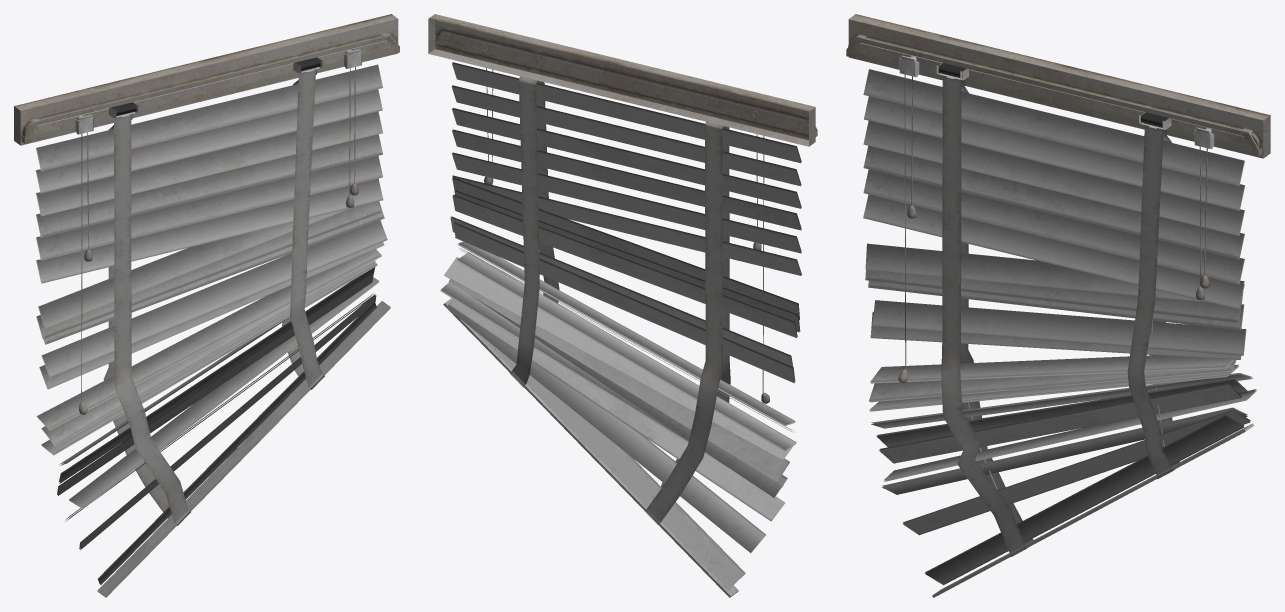
File: 038_OfficeBlind.fbx
The picture shows the model from 3 angles, left to right: view 1: azimuth 30°, elevation 25°; view 2: azimuth 150°, elevation 25°; view 3: azimuth 330°, elevation 25°; orthographic projection. The views are drawn at different scales.
Parts seen in each view (by area): view 1: LOD_1_Group_0_Sub_1__sm30_038_OfficeBlind02A_A_Mat; view 2: LOD_1_Group_0_Sub_1__sm30_038_OfficeBlind02A_A_Mat; view 3: LOD_1_Group_0_Sub_1__sm30_038_OfficeBlind02A_A_Mat.
Part boxes in pixels (bbox=[...]): LOD_1_Group_0_Sub_1__sm30_038_OfficeBlind02A_A_Mat: bbox=[14, 14, 399, 597]; LOD_1_Group_0_Sub_1__sm30_038_OfficeBlind02A_A_Mat: bbox=[428, 14, 817, 597]; LOD_1_Group_0_Sub_1__sm30_038_OfficeBlind02A_A_Mat: bbox=[846, 14, 1270, 597].
Size of the model in its own units: 1.15 by 1.47 by 0.1527.
